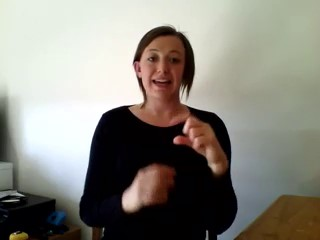G: (138, 116, 220, 210)
